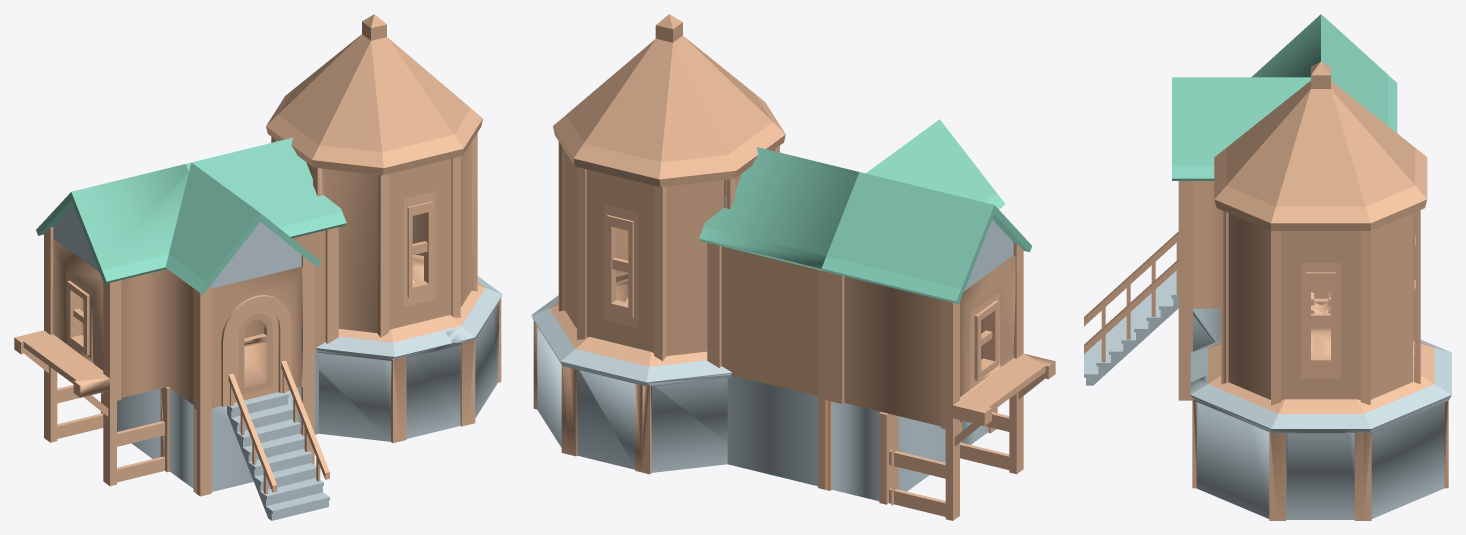
The model's file is Merchant.fbx.
3 views of the same model, side by side, from view 1: azimuth 30°, elevation 25°; view 2: azimuth 150°, elevation 25°; view 3: azimuth 270°, elevation 25° (orthographic). The views are drawn at different scales.
Visible parts, largest first — view 1: wallWoodWindowGlass.001, wallWood, roofGable.001, wallDiagonal.001, wall.008; view 2: wallWoodWindowGlass.001, wallWood, roofGable.001, wallDiagonal.001, wall.008; view 3: wallWoodWindowGlass.001, wallDiagonal.001, roofGable.001, wall.008, wallWood.
Part boxes in pixels (bbox=[...]): wallWoodWindowGlass.001: bbox=[266, 14, 482, 337]; wallWood: bbox=[14, 227, 338, 486]; roofGable.001: bbox=[36, 137, 346, 294]; wallDiagonal.001: bbox=[316, 255, 502, 443]; wall.008: bbox=[101, 350, 329, 520]; wallWoodWindowGlass.001: bbox=[553, 14, 785, 361]; wallWood: bbox=[707, 243, 1055, 520]; roofGable.001: bbox=[699, 119, 1032, 303]; wallDiagonal.001: bbox=[531, 272, 731, 474]; wall.008: bbox=[727, 375, 997, 505]; wallWoodWindowGlass.001: bbox=[1214, 61, 1427, 405]; wallDiagonal.001: bbox=[1190, 292, 1451, 520]; roofGable.001: bbox=[1172, 14, 1397, 180]; wall.008: bbox=[1084, 231, 1220, 400]; wallWood: bbox=[1178, 181, 1328, 310].
Bounding box in the file's own units: 378 × 314 × 258.
